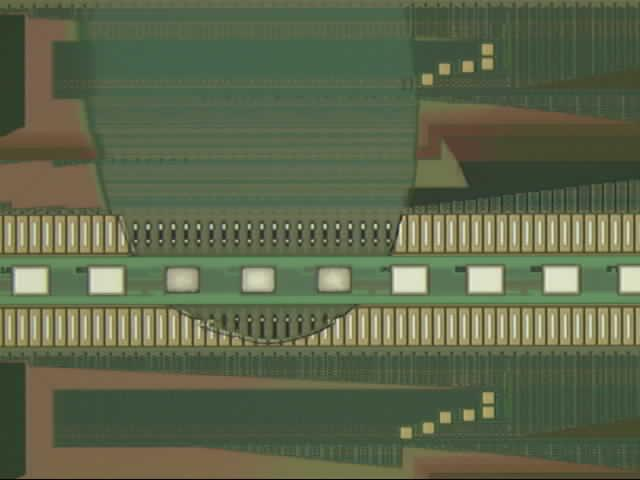BLOCK ETCH: (64, 1, 436, 347)
